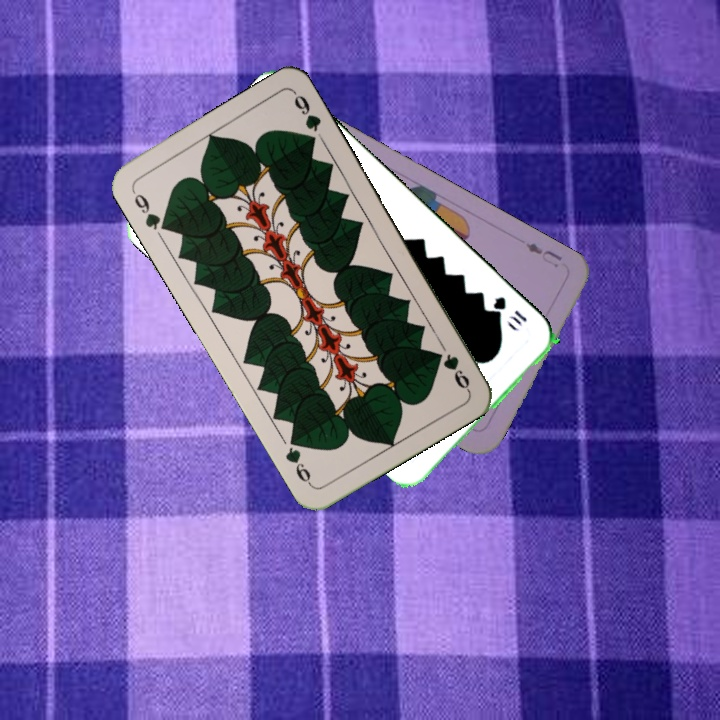EU: (522, 238, 565, 268)
G10: (489, 292, 530, 330)
G9: (128, 186, 173, 234), (438, 350, 473, 393)
